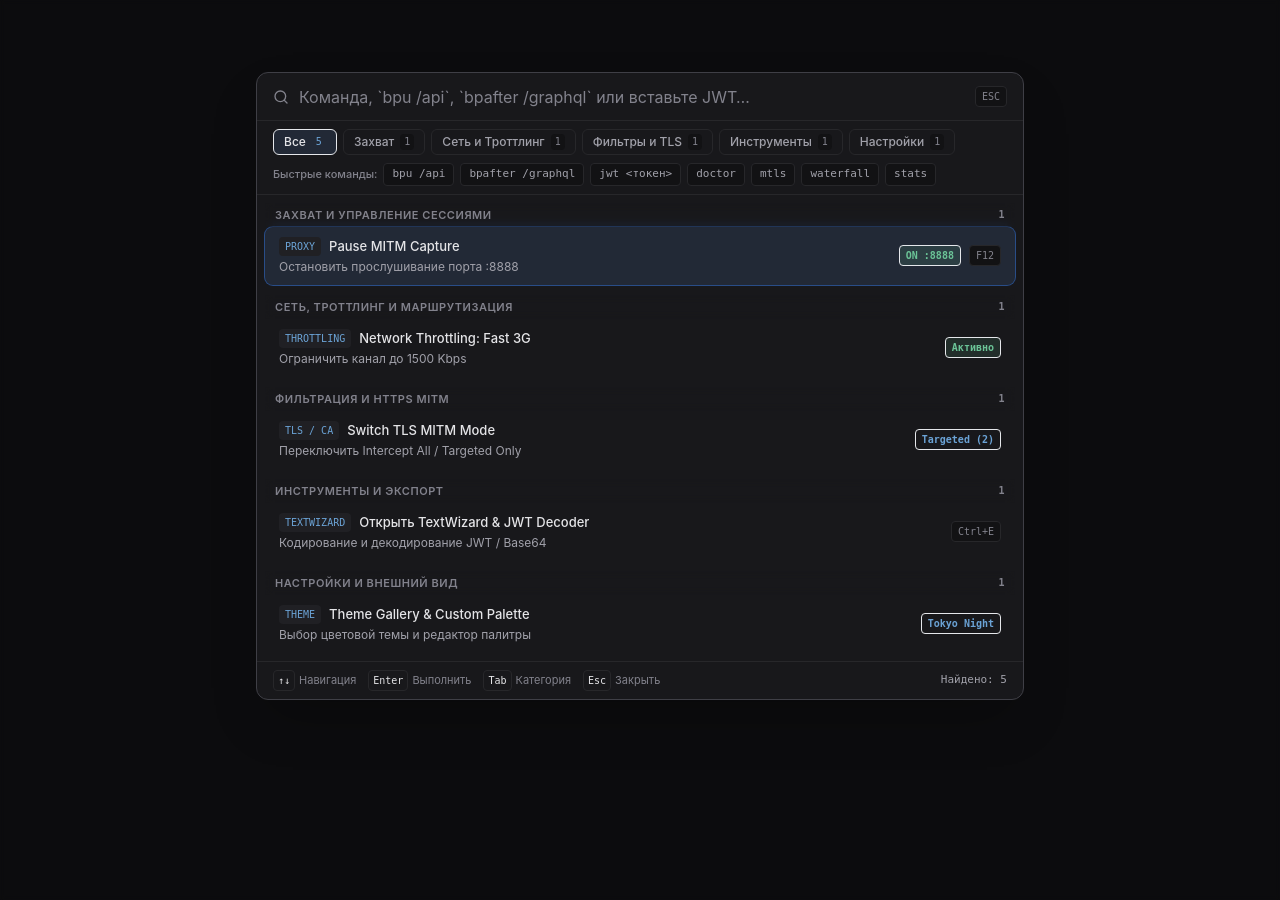
Test: CommandPalette 2.0 › populates QuickExec query from chips and executes QuickExec commands on Enter
Later steps or results of the test are not shown.
Click the button "bpu /api". click: (419, 174)
box: 383,163 -> 454,186
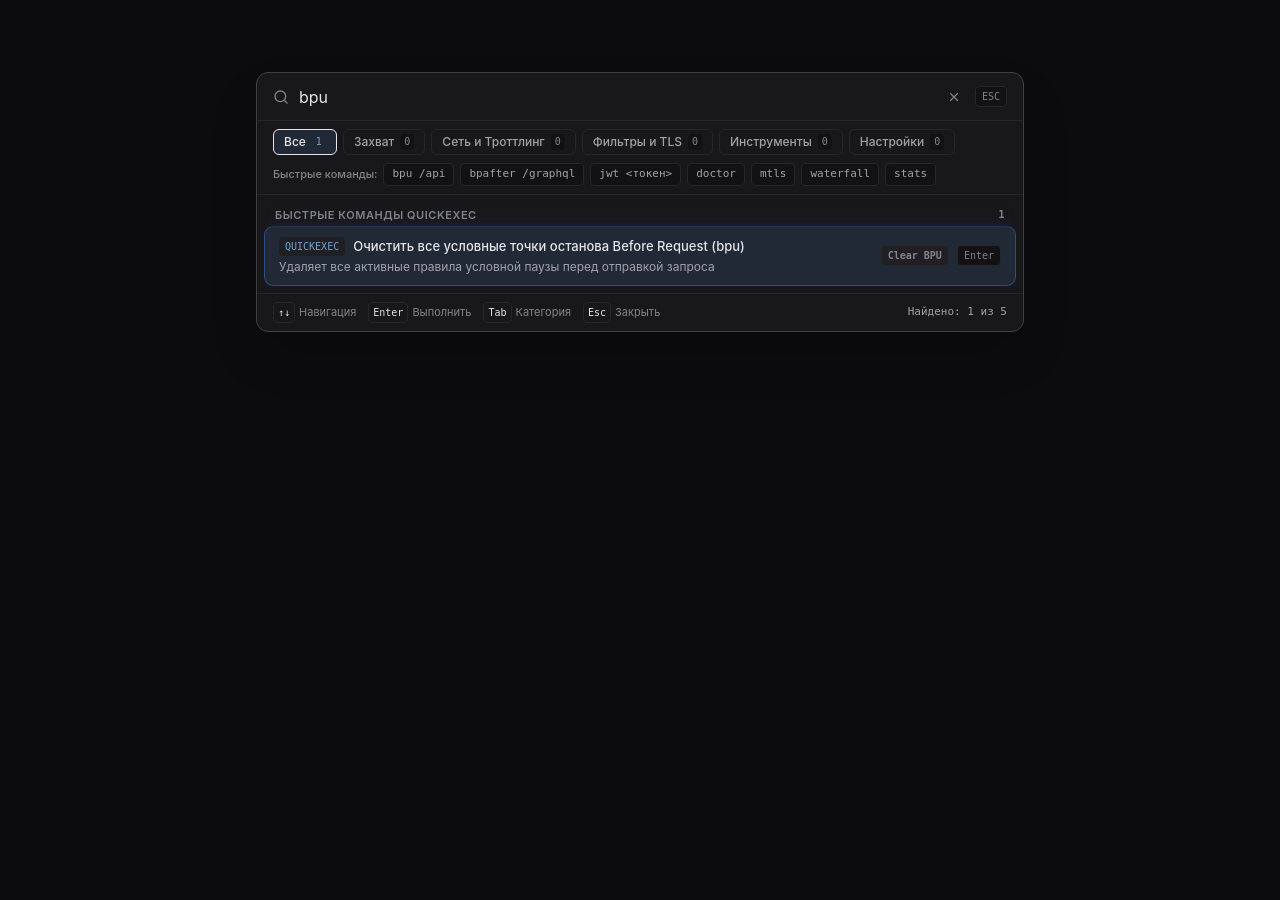
Now the field named "Search commands" holds "bpu "
Replace the text in the field named "Search commands" with "bpu /api/orders". click: (616, 96)
box: 299,72 -> 933,120
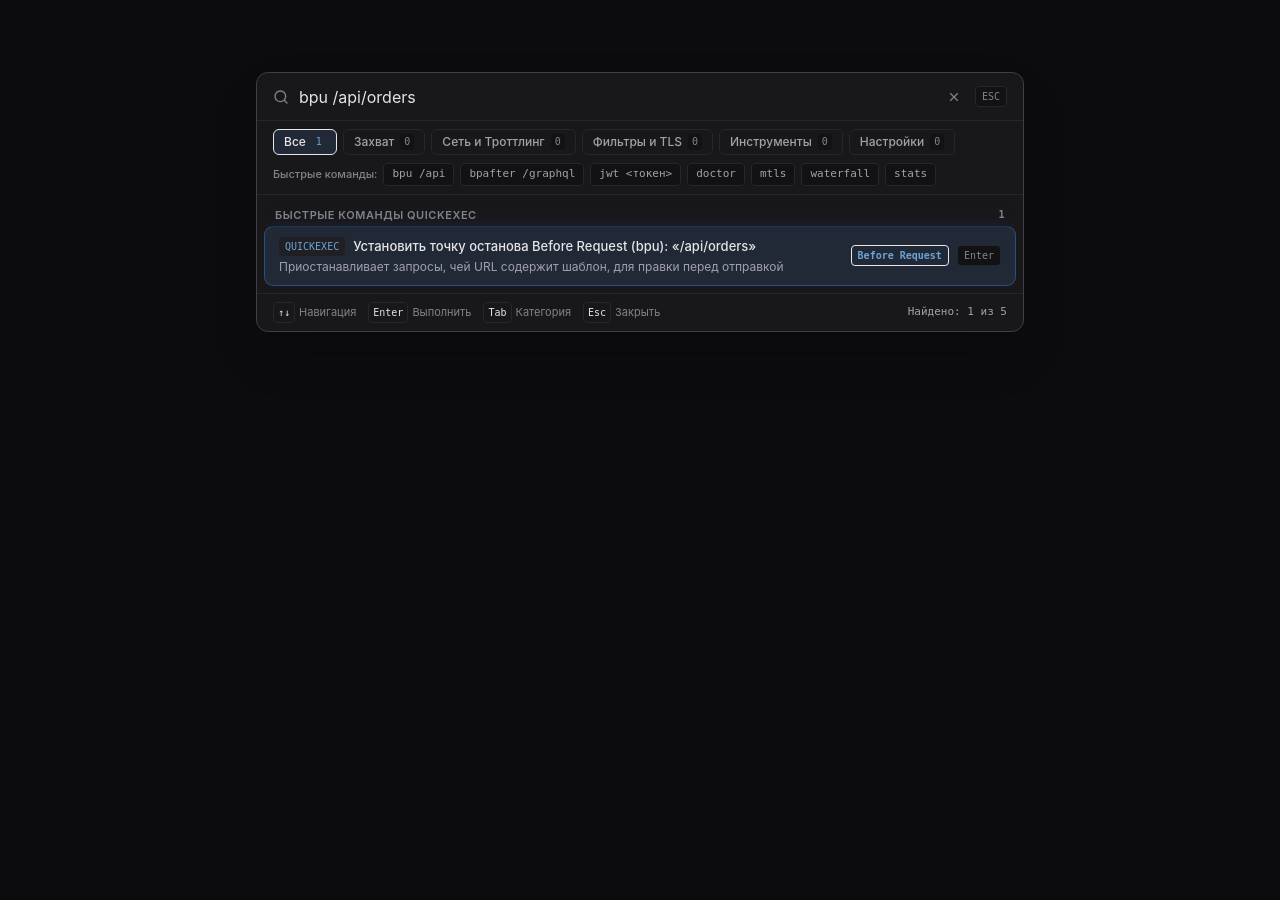
Now the element "Быстрые команды QuickExec" is shown, box 265,202 -> 1015,284
